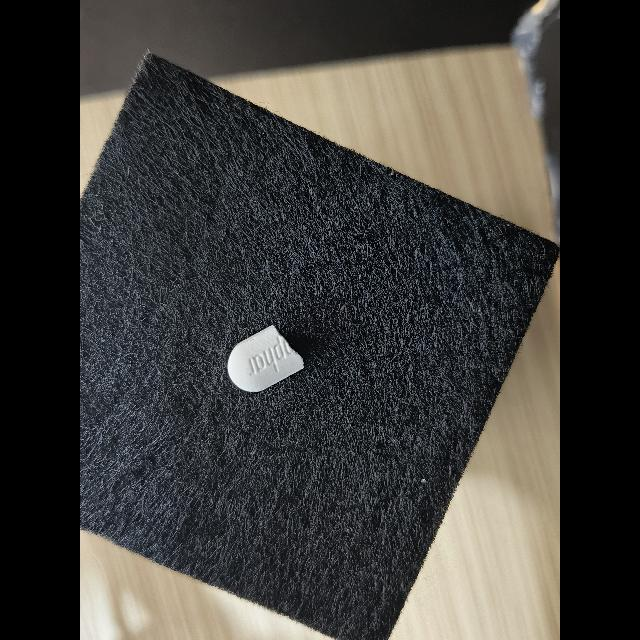Chipped Pill: (227, 325, 304, 392)
